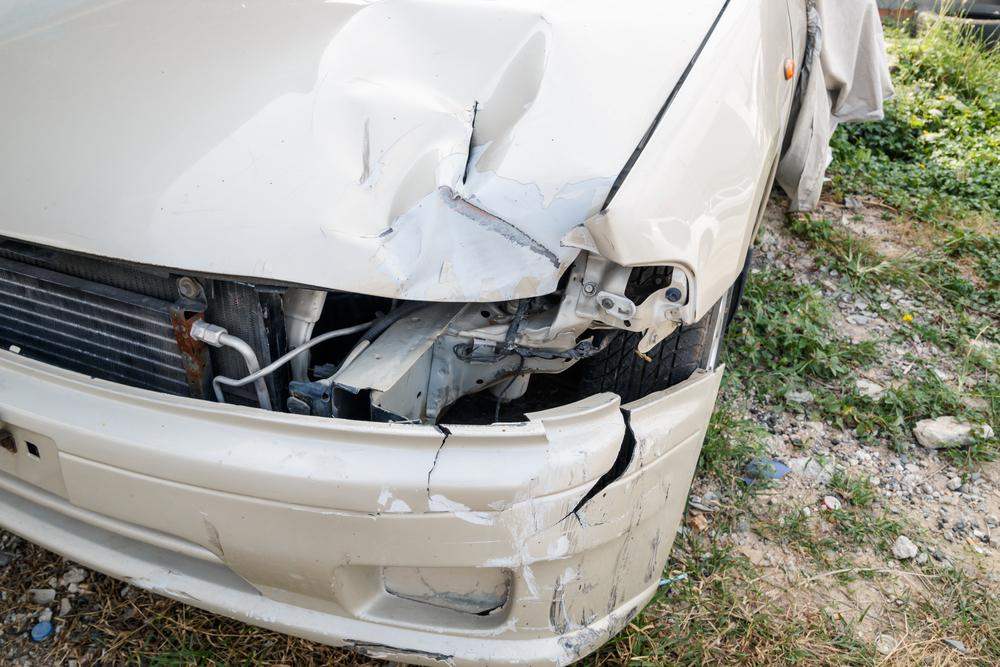crack: (554, 408, 637, 527), (426, 424, 452, 503), (457, 98, 480, 187)
dent: (301, 0, 607, 301)
scratch: (349, 440, 668, 667)
